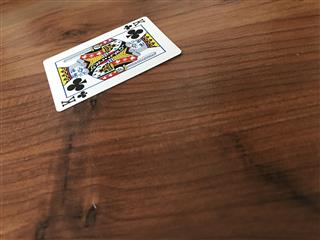KingOfClubs: (41, 15, 182, 112)
